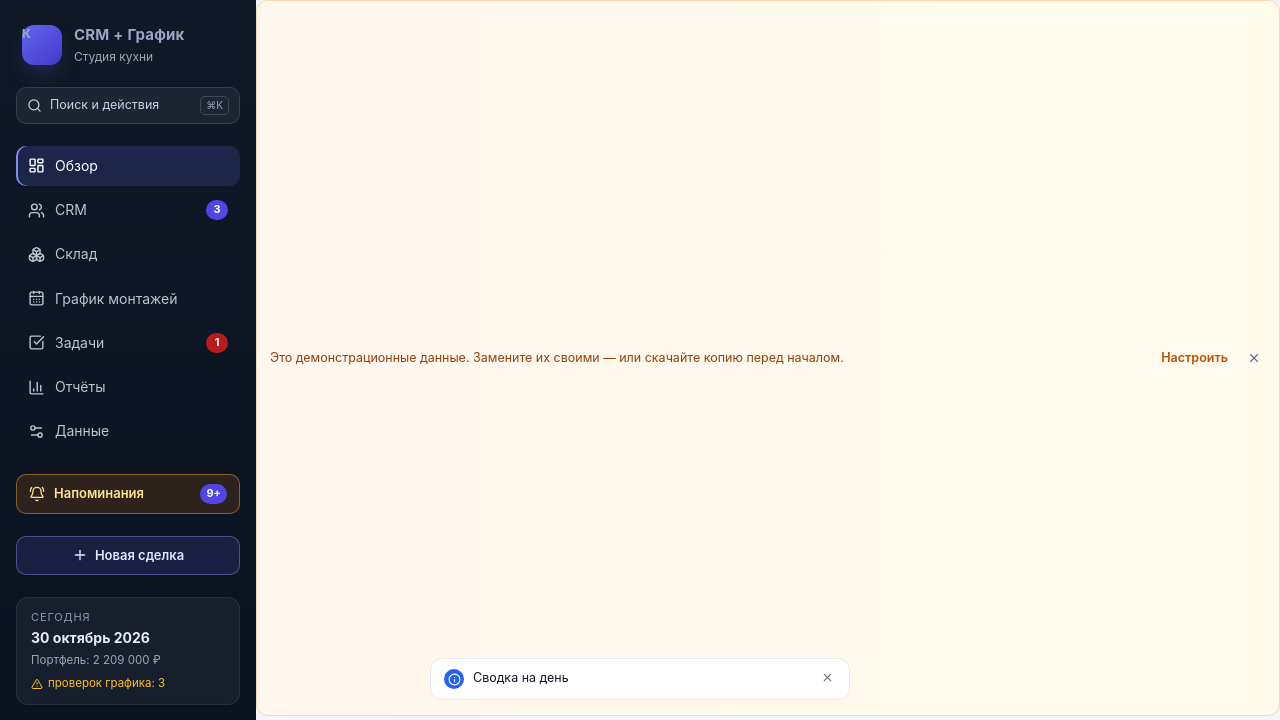
Test: раздел «Отчёты» › открывается из меню и показывает цифры периода
Step 1. Click the button "Отчёты" → (128,387), box left=16, top=367, right=240, bottom=407
(page scrolled)
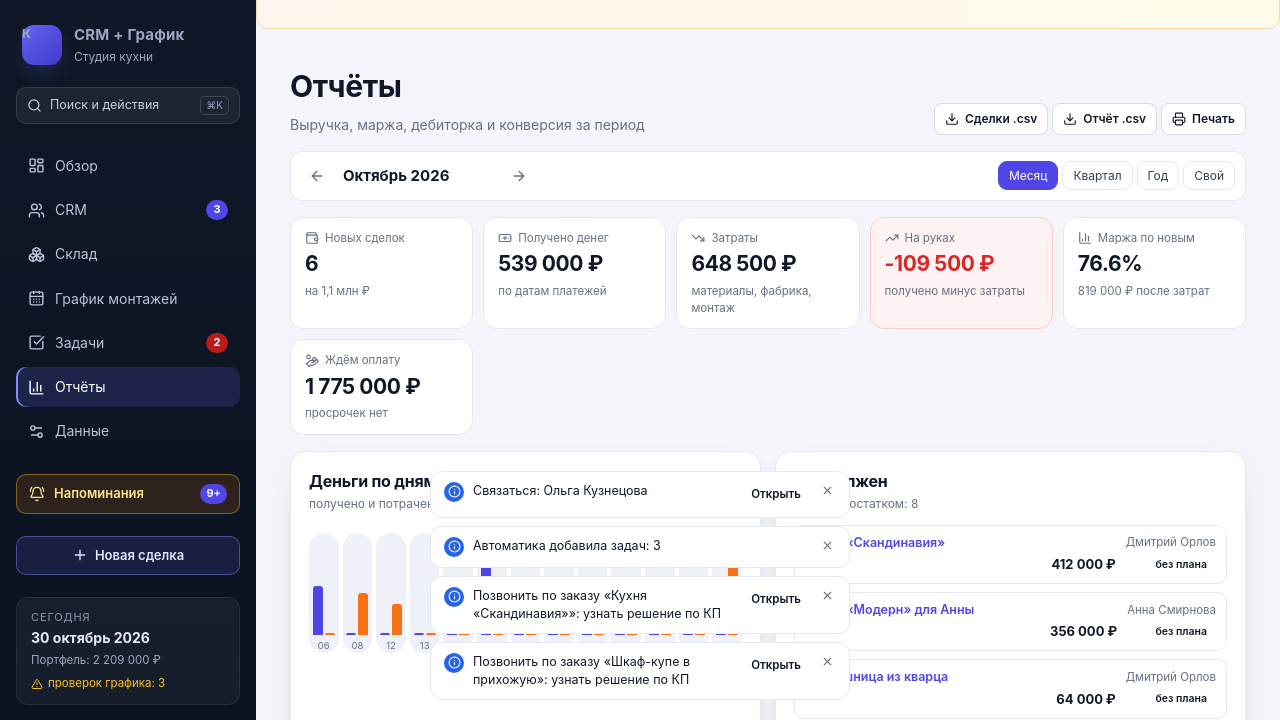
Check: the heading "Отчёты" is shown, box left=290, top=68, right=402, bottom=104
Check: the text "Новых сделок" is shown, box left=305, top=231, right=405, bottom=245
Check: the text "Получено денег" is shown, box left=498, top=231, right=609, bottom=245
